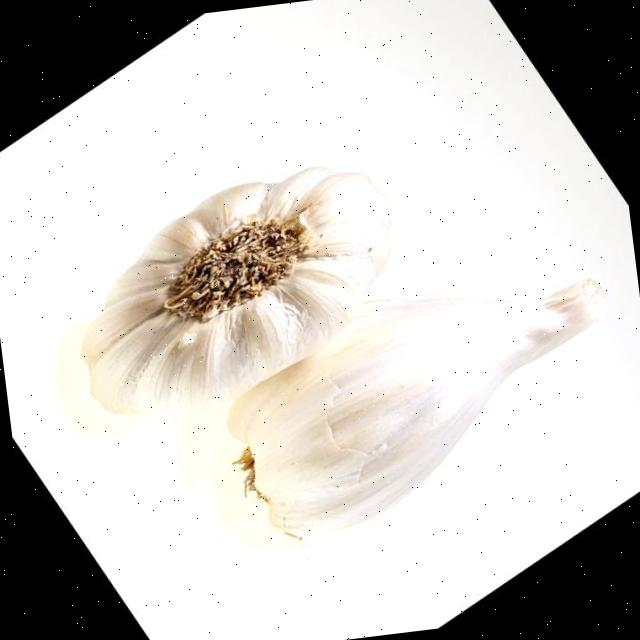garlic: (228, 278, 599, 534), (81, 166, 388, 411)
